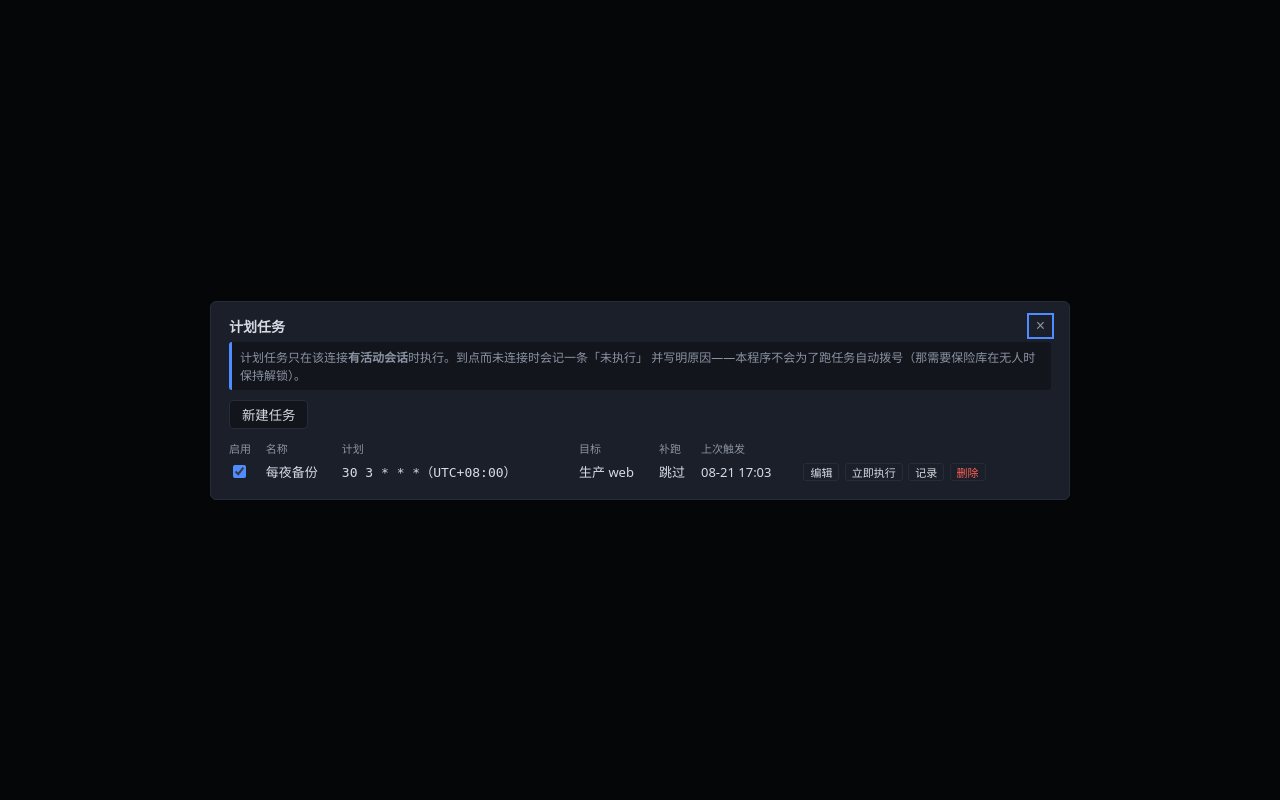
Scenario: ScheduleDialog › 编辑任务回填现有值
The image size is (1280, 800).
Click the button with test id "sched-edit-1" at (821, 472), box [803,462,839,480]
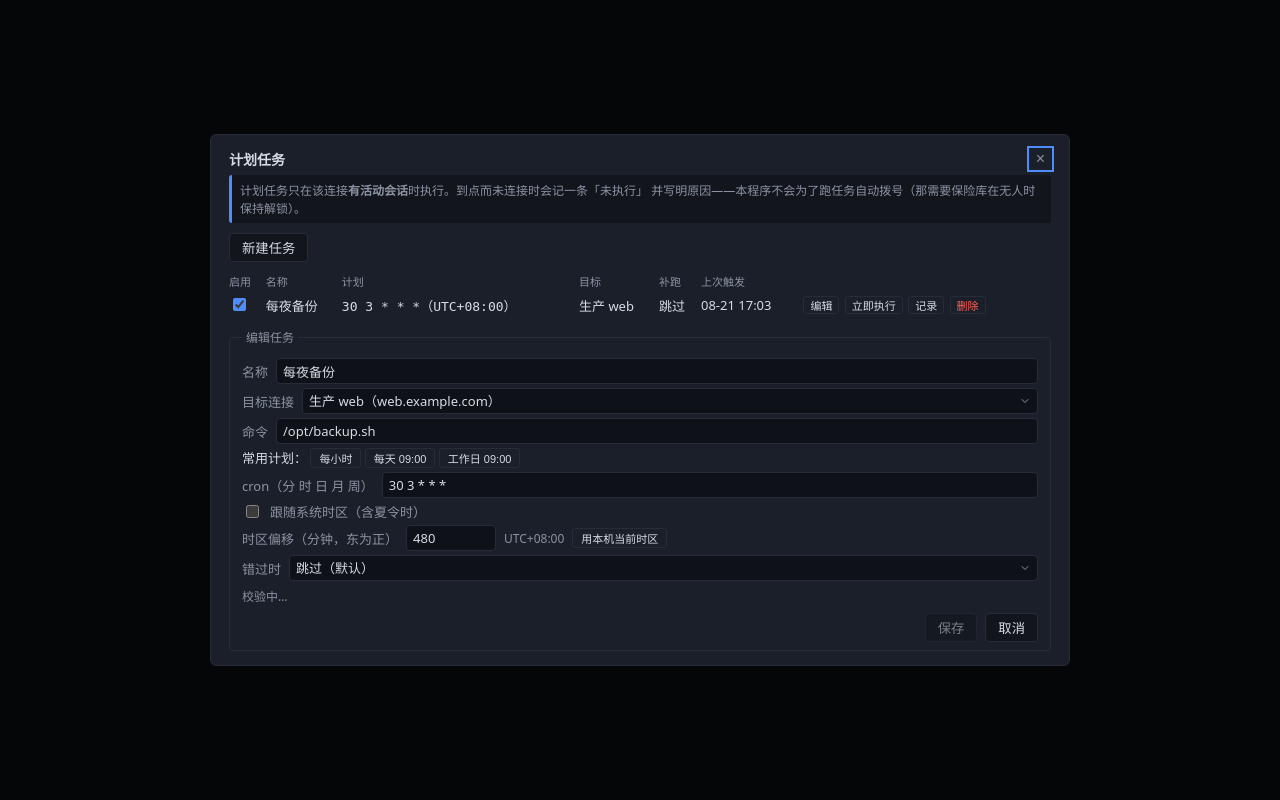
Now the field with test id "sched-f-name" holds "每夜备份", box [276,358,1038,384]
Now the field with test id "sched-f-cron" holds "30 3 * * *", box [382,472,1038,498]
Now the field with test id "sched-f-command" holds "/opt/backup.sh", box [276,418,1038,444]
